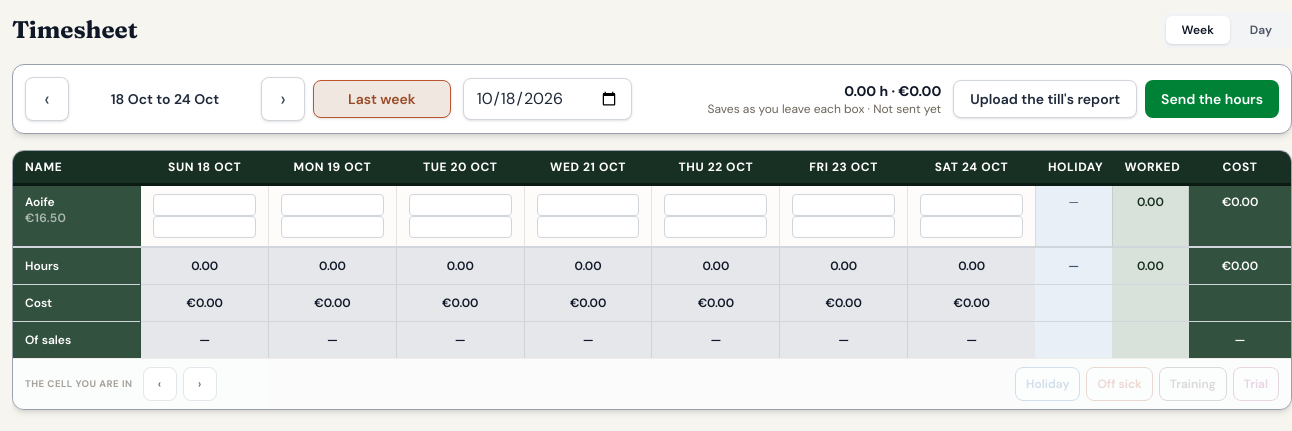
Test: typing into a cell with nothing in it › keeps an out time waiting until there is an in time
Type "1700" into the 1st field named "Clock out". click: (205, 227)
box: [153,216,256,238]
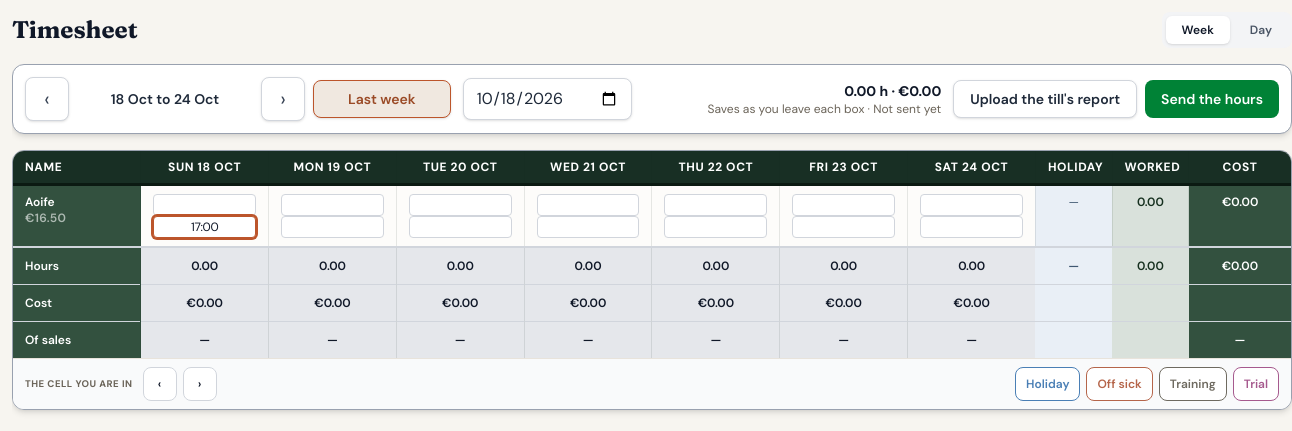
Press Tab
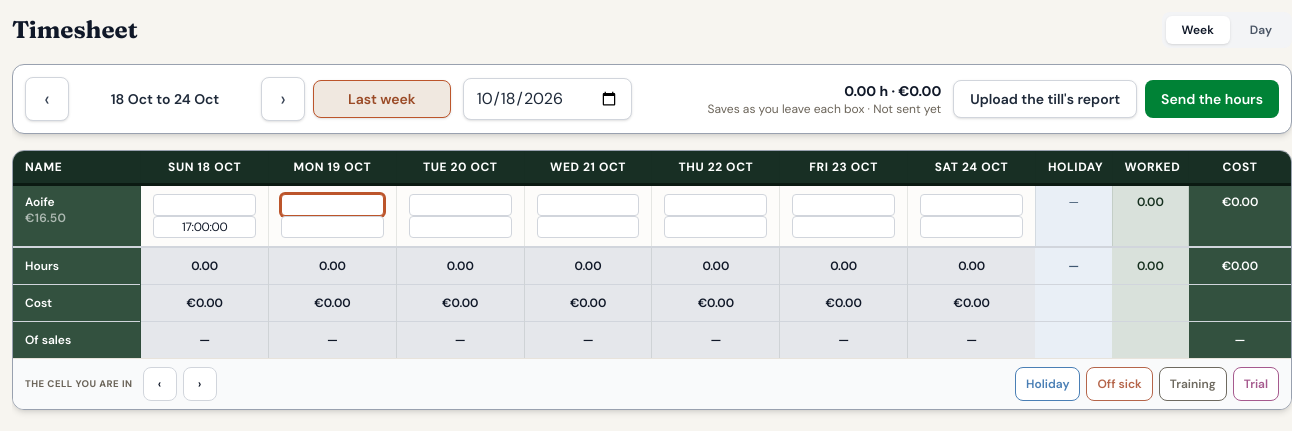
Now the 1st field named "Clock out" holds "17:00:00", box [153,216,256,238]
